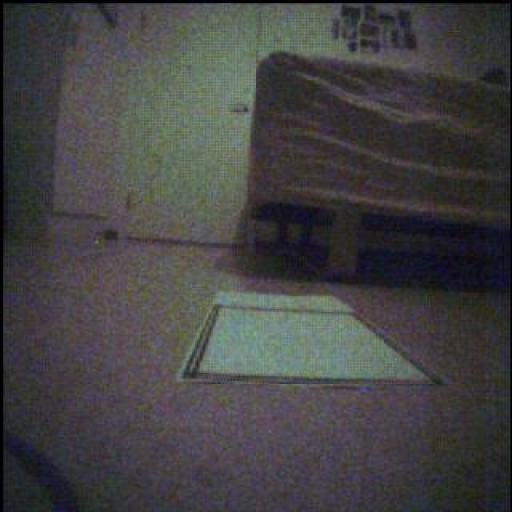pad: (179, 294, 440, 387)
